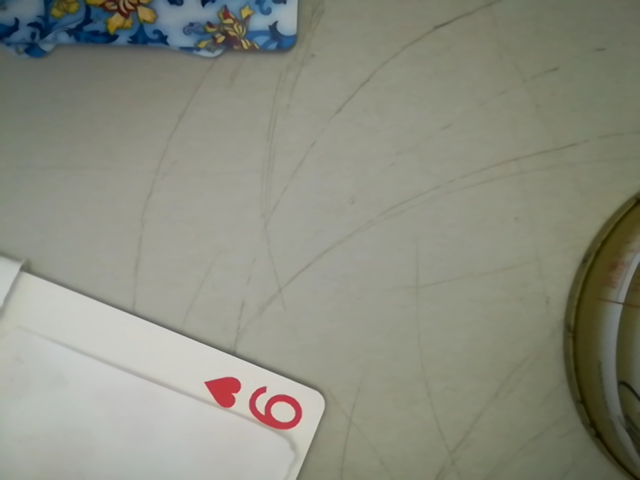hx 9: (205, 370, 316, 435)
